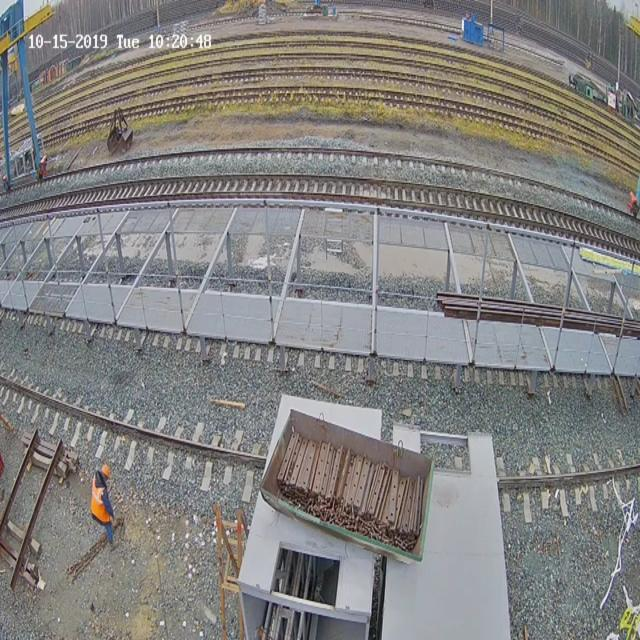Helmet: (102, 464, 110, 478)
Person: (90, 463, 115, 546)
